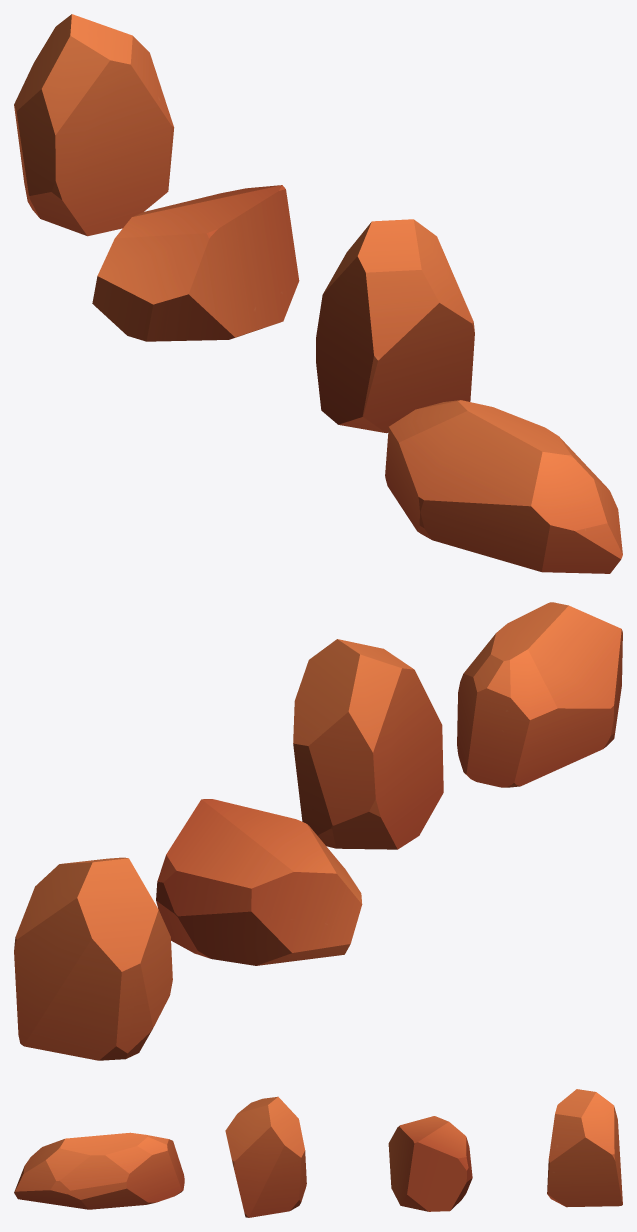
The model's file is Pedras (2).fbx.
The picture shows the model from 3 angles, top to bottom: view 1: azimuth 30°, elevation 25°; view 2: azimuth 150°, elevation 25°; view 3: azimuth 270°, elevation 25°; orthographic projection. The views are drawn at different scales.
Visible parts, largest first — view 1: Sphere.003, Sphere.001, Sphere.002, Sphere; view 2: Sphere.001, Sphere.002, Sphere, Sphere.003; view 3: Sphere.003, Sphere.001, Sphere.002, Sphere.
Boxes of the visible parts, x1,y1,x2,y2 form: Sphere.003: [385, 400, 622, 573]; Sphere.001: [14, 14, 174, 236]; Sphere.002: [316, 219, 474, 433]; Sphere: [92, 185, 299, 341]; Sphere.001: [14, 857, 172, 1060]; Sphere.002: [293, 639, 443, 849]; Sphere: [156, 799, 362, 965]; Sphere.003: [457, 602, 622, 787]; Sphere.003: [14, 1132, 184, 1209]; Sphere.001: [547, 1089, 622, 1207]; Sphere.002: [225, 1096, 306, 1217]; Sphere: [388, 1116, 472, 1211].
Size of the model in its own units: 281 by 246 by 1288.
4 materials, 4 textured.
